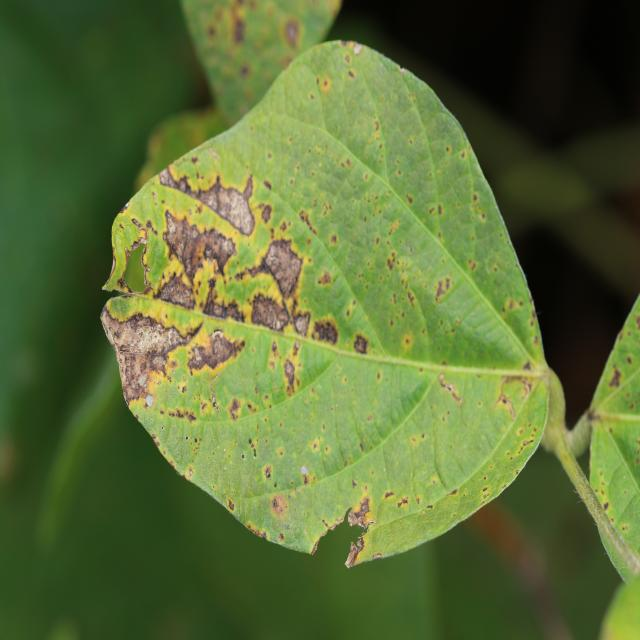Bacterial_Blight: (448, 453, 517, 516), (187, 325, 245, 374), (112, 227, 150, 292), (197, 226, 238, 276), (199, 278, 247, 320), (494, 373, 536, 418), (156, 254, 189, 304), (191, 256, 223, 307), (273, 358, 308, 396), (344, 327, 373, 371), (343, 530, 373, 567), (157, 325, 188, 354), (141, 369, 167, 402), (438, 372, 461, 405), (312, 318, 338, 345), (510, 435, 536, 459), (494, 393, 515, 421), (165, 407, 198, 423), (157, 167, 181, 189), (299, 209, 317, 235), (292, 312, 311, 336), (434, 277, 452, 301), (270, 493, 288, 517), (268, 339, 281, 366), (245, 521, 264, 539), (357, 509, 375, 528), (228, 397, 242, 420), (151, 353, 167, 372), (317, 269, 332, 286), (260, 203, 272, 223), (262, 464, 275, 482), (248, 437, 258, 459), (386, 251, 397, 270), (318, 76, 331, 92), (310, 436, 322, 453), (388, 219, 400, 234), (131, 217, 143, 230), (137, 227, 148, 241), (402, 334, 412, 349), (397, 496, 409, 508), (116, 277, 127, 290), (168, 359, 179, 371), (507, 298, 517, 311), (184, 467, 193, 481), (446, 488, 458, 497), (263, 179, 272, 191), (227, 498, 235, 511), (330, 233, 338, 245), (151, 433, 158, 445), (384, 490, 393, 499), (410, 435, 418, 445), (191, 155, 199, 164), (406, 195, 413, 205), (277, 447, 284, 457), (348, 69, 355, 79), (278, 533, 285, 542), (352, 479, 358, 489), (426, 504, 434, 510), (445, 146, 451, 154), (182, 385, 187, 393)
Soybean: (102, 42, 549, 565)
